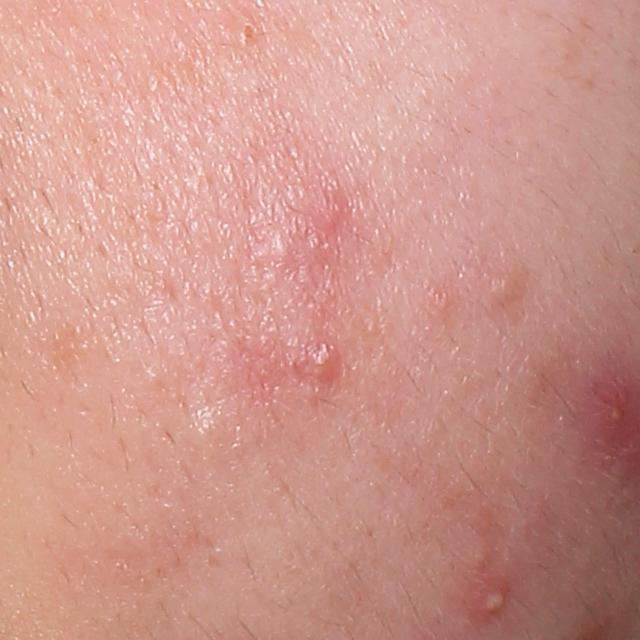comedo: (488, 264, 539, 309), (265, 229, 293, 263), (237, 23, 256, 44)
papule: (298, 336, 345, 392)
pustule: (594, 388, 636, 438), (475, 581, 514, 618)
